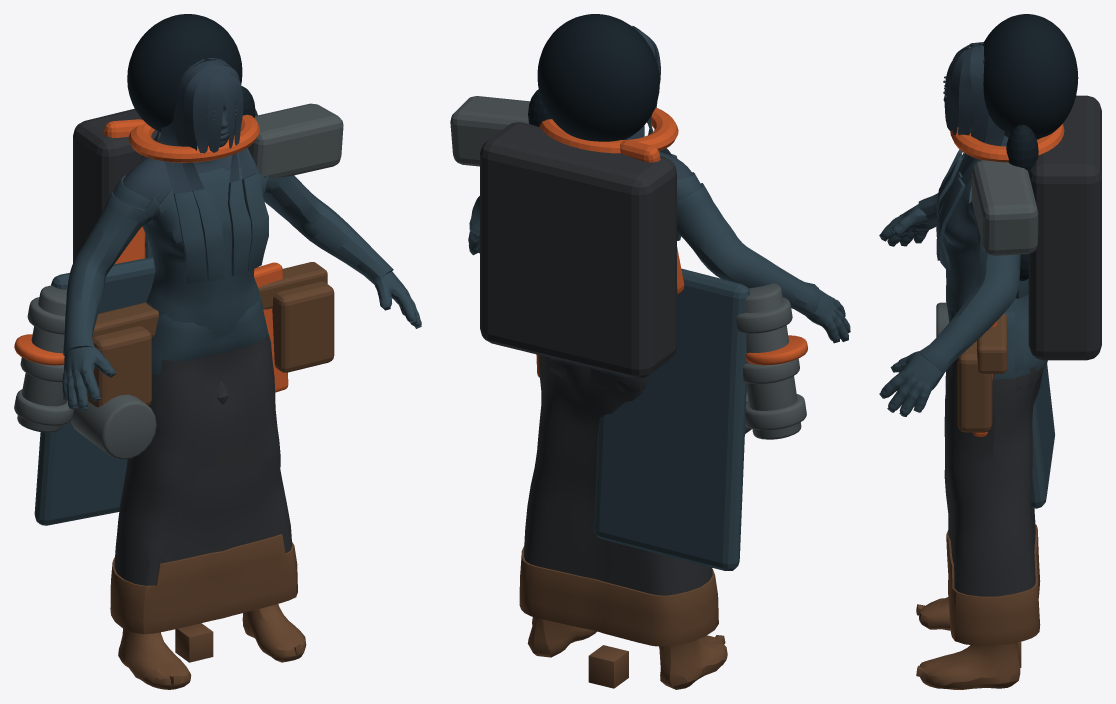
The model's file is survivor_apocalypse_v2.glb.
The picture shows the model from 3 angles, left to right: view 1: azimuth 30°, elevation 25°; view 2: azimuth 150°, elevation 25°; view 3: azimuth 270°, elevation 25°; orthographic projection. The views are drawn at different scales.
Visible parts, largest first — view 1: Cropped field jacket, Armoured field trousers, Survivor combat boots, Asymmetric torn coat tail, SurvivorBody, Asymmetric cropped hair, Shoulder armour, Field backpack, Belt pouch.001, Filter canister, Belt pouch, Utility belt (+8 smaller); view 2: Field backpack, Asymmetric torn coat tail, Armoured field trousers, Survivor combat boots, Asymmetric cropped hair, Cropped field jacket, Mechanical forearm core, Shoulder armour, Signal scarf, Prosthetic armour ring, Prosthetic armour ring.002, Prosthetic armour ring.001 (+3 smaller); view 3: Armoured field trousers, Field backpack, Cropped field jacket, Survivor combat boots, Asymmetric cropped hair, Shoulder armour, SurvivorBody, Belt pouch.001, Asymmetric torn coat tail, Utility belt, Signal scarf, Braided hair 1 (+1 smaller).
Part boxes in pixels (x1,y1,x2,y2): Cropped field jacket: (62,167,421,410); Armoured field trousers: (71,334,292,585); Survivor combat boots: (110,534,306,689); Asymmetric torn coat tail: (34,257,155,525); SurvivorBody: (122,58,260,266); Asymmetric cropped hair: (127,14,242,132); Shoulder armour: (247,103,343,178); Field backpack: (73,108,257,262); Belt pouch.001: (272,281,334,372); Filter canister: (70,394,156,459); Belt pouch: (87,326,151,407); Utility belt: (92,262,327,339); Field backpack: (480,122,676,378); Asymmetric torn coat tail: (594,268,749,570); Armoured field trousers: (524,355,712,595); Survivor combat boots: (519,546,727,689); Asymmetric cropped hair: (537,14,659,141); Cropped field jacket: (468,154,850,377); Mechanical forearm core: (745,283,801,439); Shoulder armour: (450,96,529,166); Signal scarf: (539,108,678,153); Prosthetic armour ring: (745,394,806,430); Prosthetic armour ring.002: (736,297,792,333); Prosthetic armour ring.001: (742,358,799,384); Armoured field trousers: (901,358,1044,596); Field backpack: (1028,95,1101,360); Cropped field jacket: (879,149,1047,416); Survivor combat boots: (916,524,1040,689); Asymmetric cropped hair: (982,14,1078,139); Shoulder armour: (971,160,1038,255); SurvivorBody: (942,42,1009,242); Belt pouch.001: (957,341,992,432); Asymmetric torn coat tail: (1031,363,1054,508); Utility belt: (977,313,1007,373); Signal scarf: (950,124,1064,162); Braided hair 1: (1006,124,1038,173).
Bounding box in the file's own units: 0.9734 × 1.65 × 0.5179.
